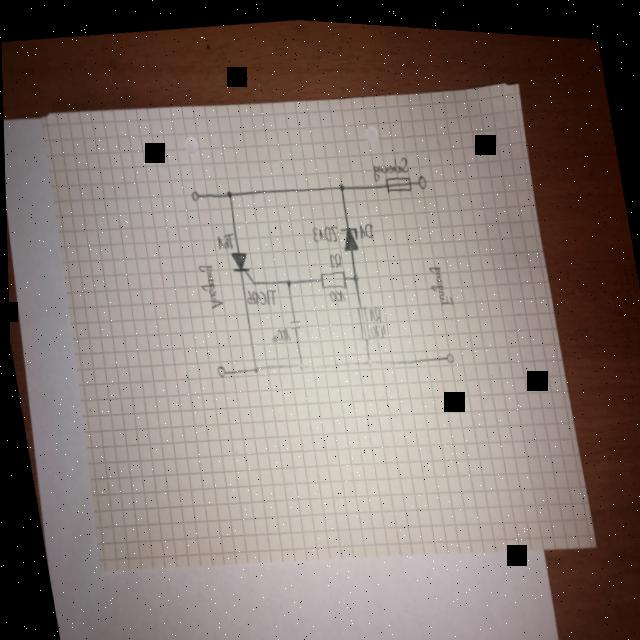capacitor: (286, 312, 303, 327)
diode: (339, 220, 360, 247)
junction: (224, 185, 233, 197), (282, 273, 292, 283), (364, 351, 373, 362), (296, 356, 305, 367), (350, 267, 359, 277), (250, 359, 258, 370), (338, 177, 345, 187)
resistor: (317, 262, 348, 288), (354, 298, 371, 338)
terminal: (416, 167, 428, 185), (215, 360, 227, 375), (190, 186, 201, 198), (444, 344, 454, 357)
text: (197, 259, 224, 308), (369, 147, 411, 178), (426, 257, 454, 302), (244, 282, 278, 306), (310, 217, 340, 242), (268, 321, 291, 341), (216, 227, 236, 248), (357, 216, 375, 236), (326, 244, 343, 265), (368, 316, 386, 335), (366, 298, 381, 319), (327, 282, 345, 299)
thyristor: (228, 245, 255, 285)
